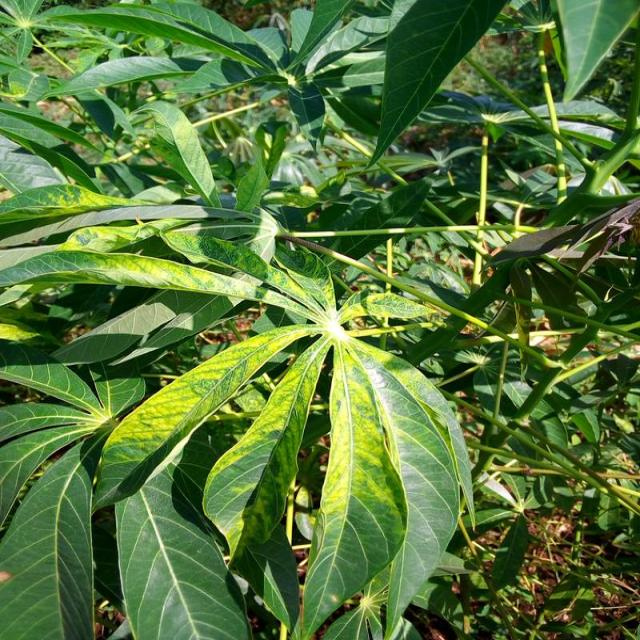cassava leaf: (93, 261, 475, 638), (366, 0, 508, 169)
